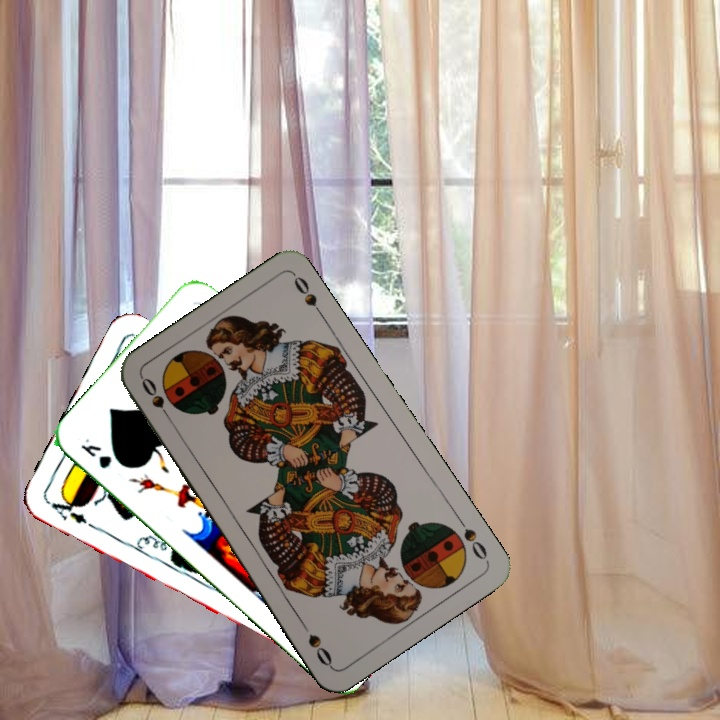EA: (43, 492, 98, 531)
GK: (77, 434, 115, 472)
SO: (137, 373, 176, 426), (452, 512, 491, 564)
